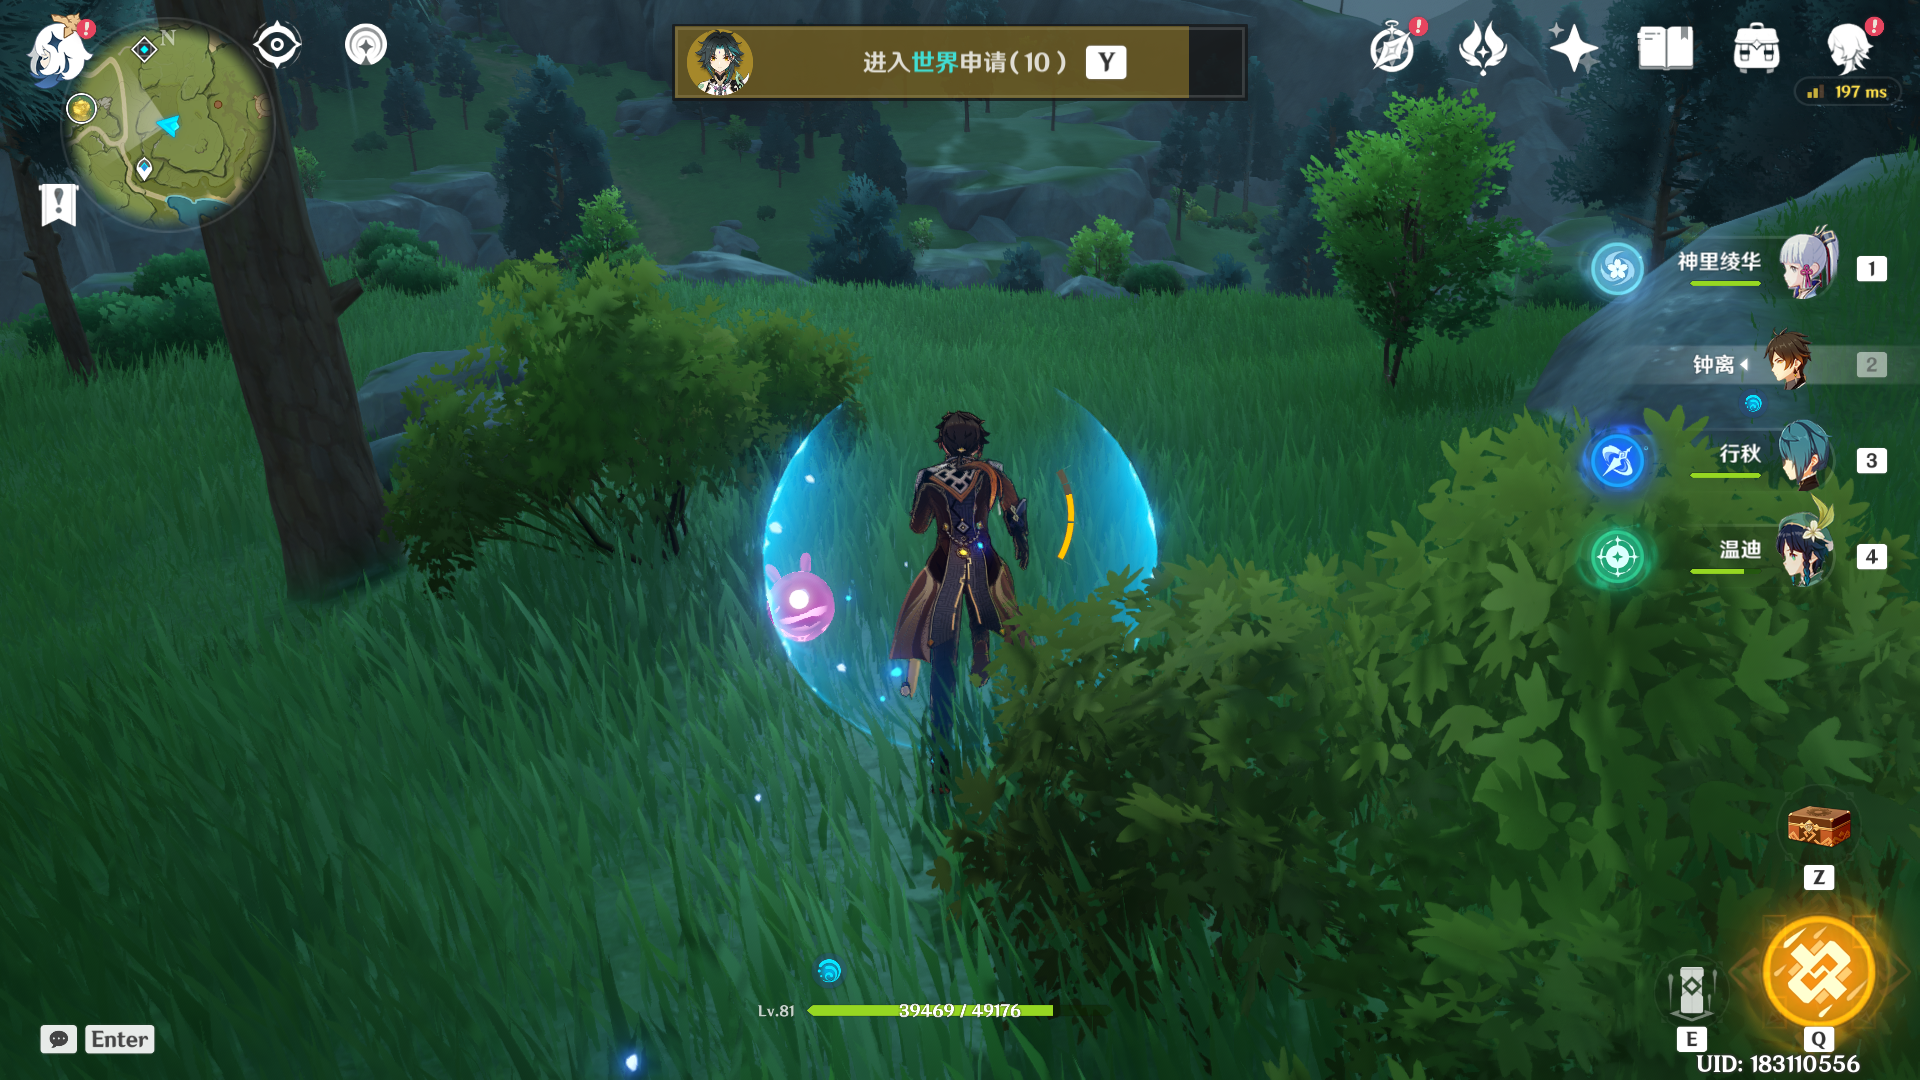character: (815, 392, 1116, 833)
